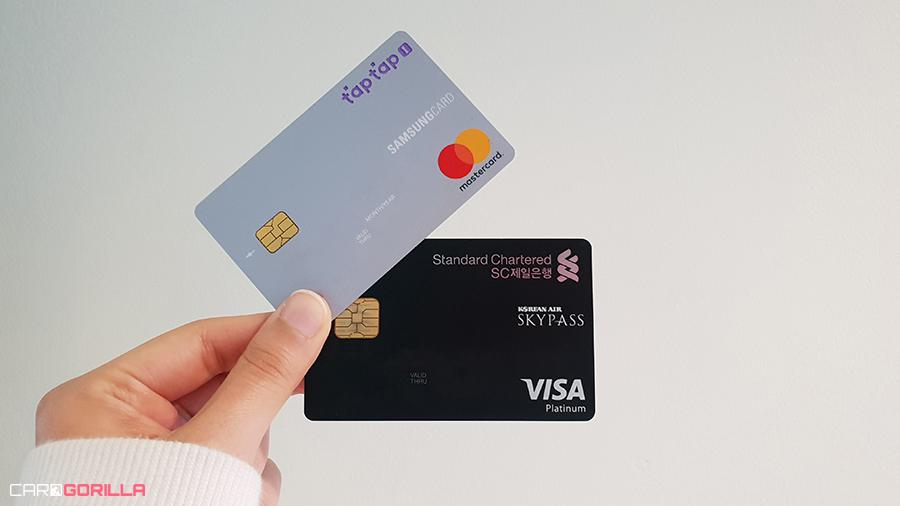Credit_card: (196, 32, 514, 318), (304, 239, 594, 420)
